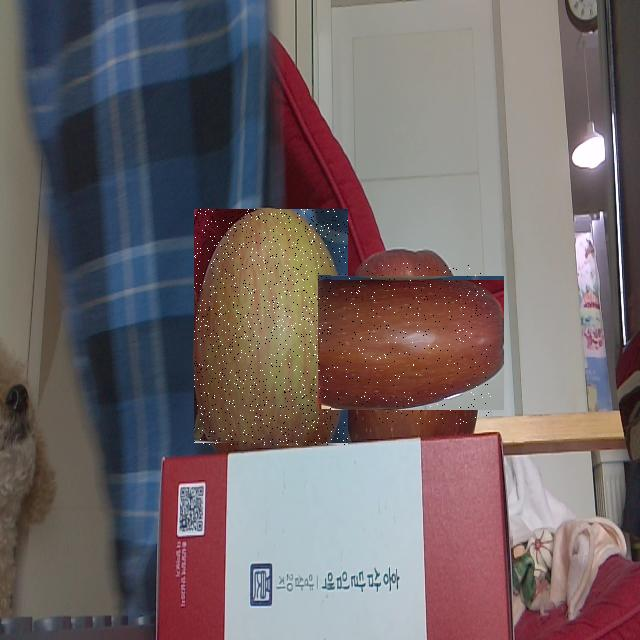apple: (194, 210, 348, 446), (331, 263, 491, 424)
